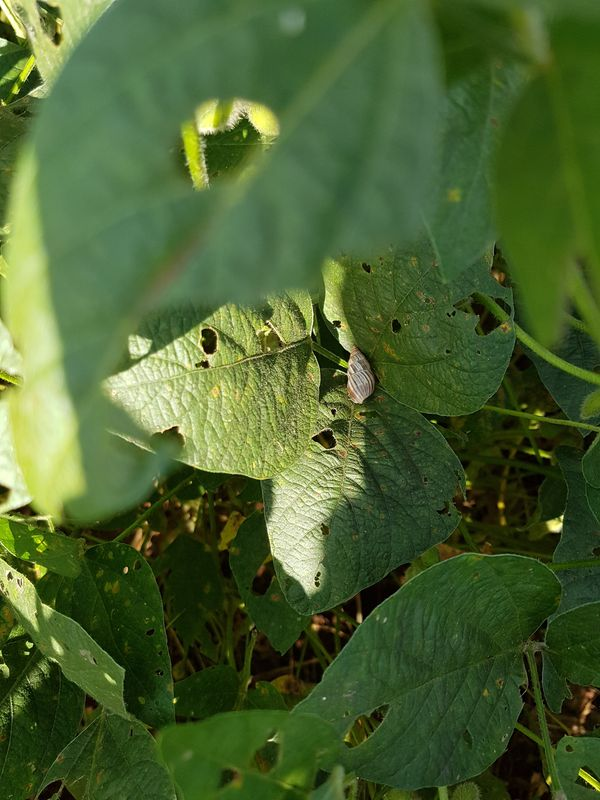Gastropoda: (330, 339, 392, 412)
